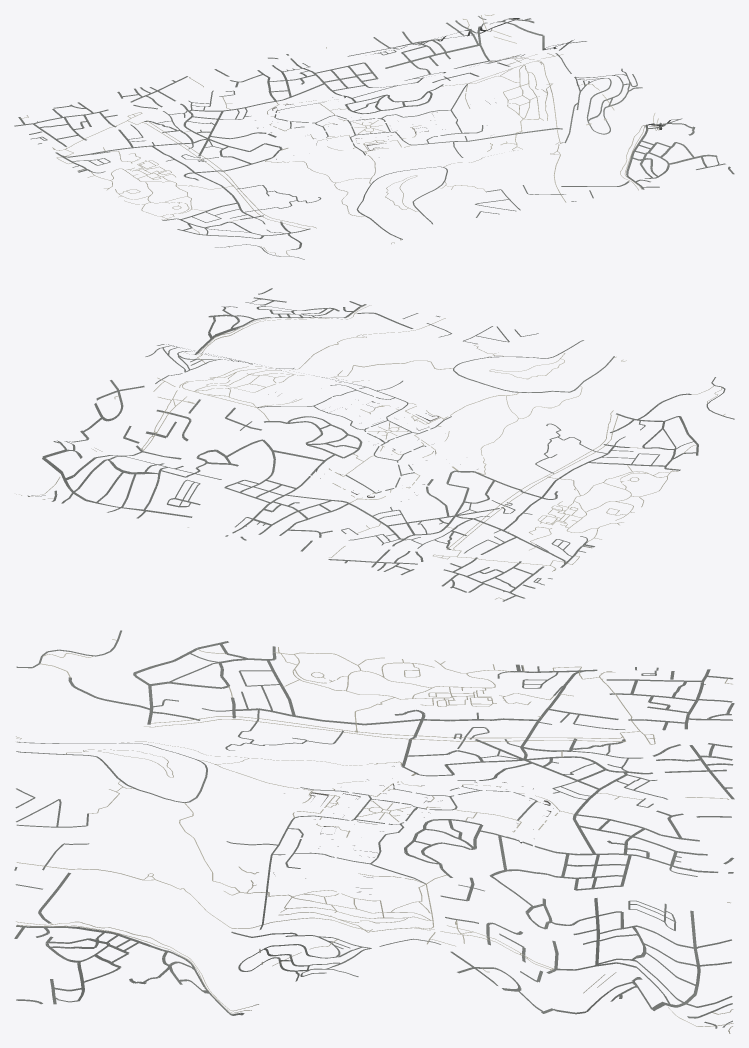
3 views of the same model, one above another, from view 1: azimuth 30°, elevation 25°; view 2: azimuth 150°, elevation 25°; view 3: azimuth 270°, elevation 25° (orthographic). The views are drawn at different scales.
Parts seen in each view (by area): view 1: dongguk-asphalt-overlay, dongguk-paving-overlay; view 2: dongguk-asphalt-overlay, dongguk-paving-overlay; view 3: dongguk-asphalt-overlay, dongguk-paving-overlay.
Part boxes in pixels (x1,y1,x2,y2): dongguk-asphalt-overlay: (14, 16, 734, 259); dongguk-paving-overlay: (20, 14, 659, 256); dongguk-asphalt-overlay: (27, 288, 734, 601); dongguk-paving-overlay: (16, 304, 725, 600); dongguk-asphalt-overlay: (14, 630, 734, 1028); dongguk-paving-overlay: (16, 639, 733, 1033).
Size of the model in its own units: 1260 by 120 by 1100.
3 materials, 2 textured.
